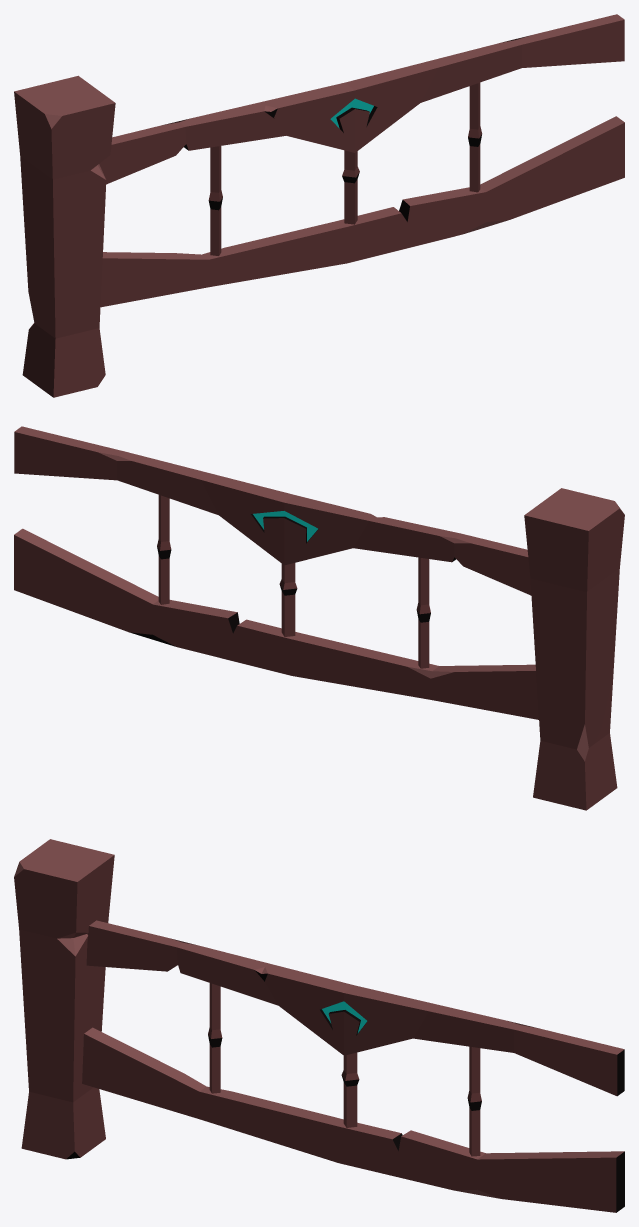
Rendered from FenceWoodLarge_01.glb.
3 renders of one model, top to bottom at view 1: azimuth 30°, elevation 25°; view 2: azimuth 150°, elevation 25°; view 3: azimuth 330°, elevation 25°, orthographic.
Parts seen in each view (by area): view 1: FenceWoodLarge_01; view 2: FenceWoodLarge_01; view 3: FenceWoodLarge_01.
Part boxes in pixels (x1,y1,x2,y2): FenceWoodLarge_01: [14, 14, 624, 397]; FenceWoodLarge_01: [14, 426, 624, 810]; FenceWoodLarge_01: [14, 839, 624, 1212].
Size of what is drawn, in the model's own units: 2.42 by 1.11 by 0.2653.
2 materials, 2 textured.
